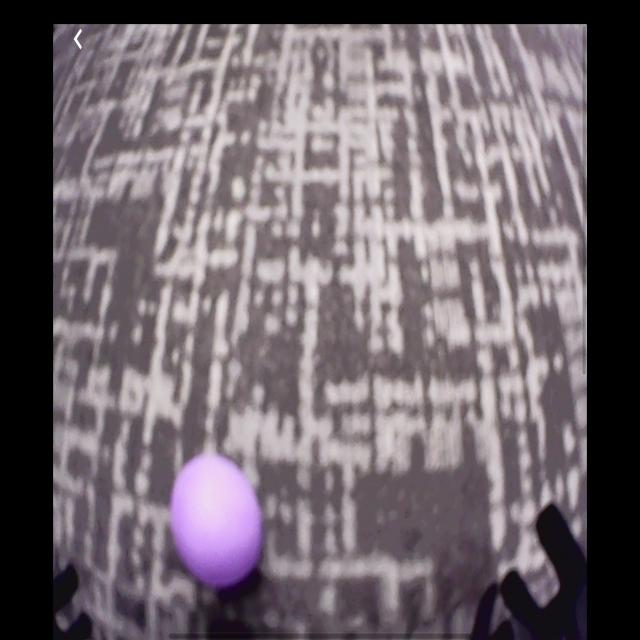ball: (172, 450, 265, 591)
